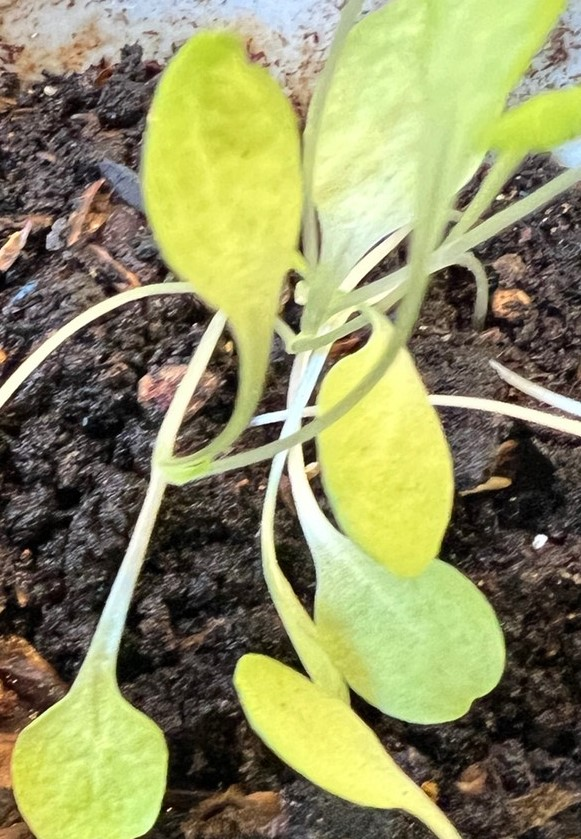week4: (1, 23, 404, 836)
